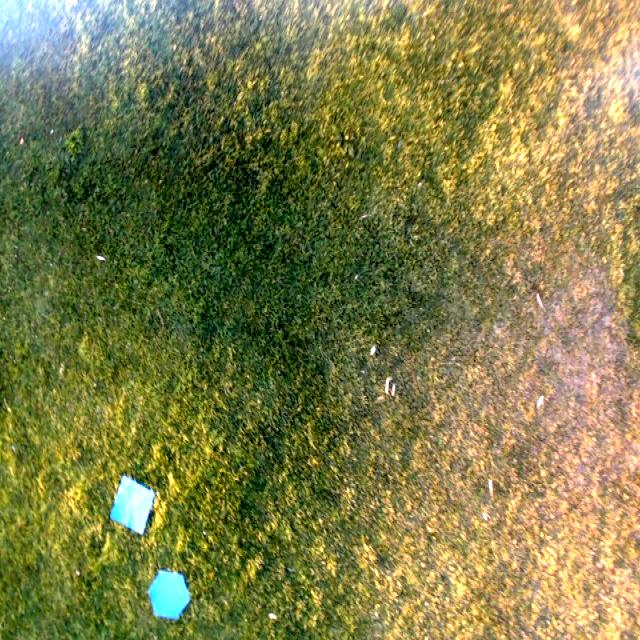blue_hexagon: (147, 568, 191, 622)
blue_square: (109, 476, 156, 534)
